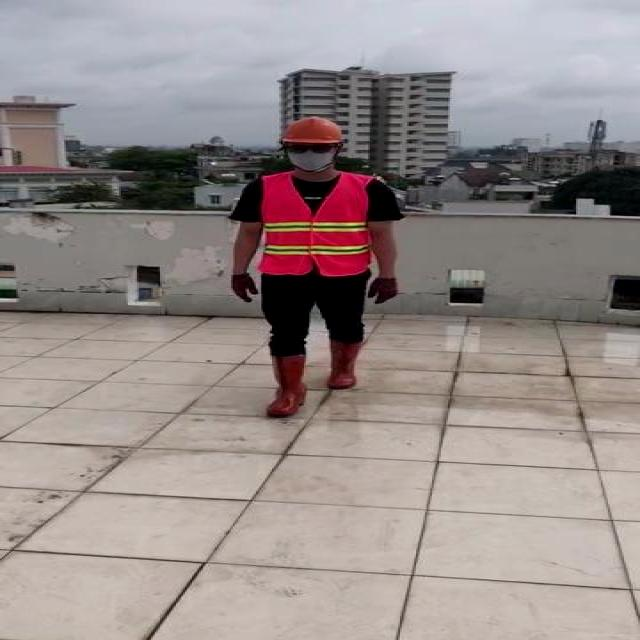boots: (263, 352, 309, 418), (326, 340, 364, 390)
face_mask: (287, 140, 335, 170)
glasses: (284, 140, 338, 156)
hand_glove: (368, 274, 398, 303), (229, 273, 258, 303)
head_helmet: (284, 114, 345, 146)
person: (220, 114, 410, 426)
vest: (256, 173, 372, 276)
